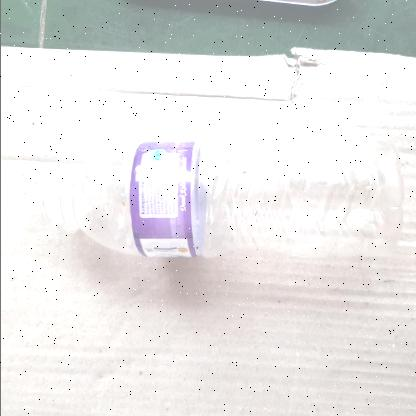Plastic Bottle: (34, 133, 402, 257)
